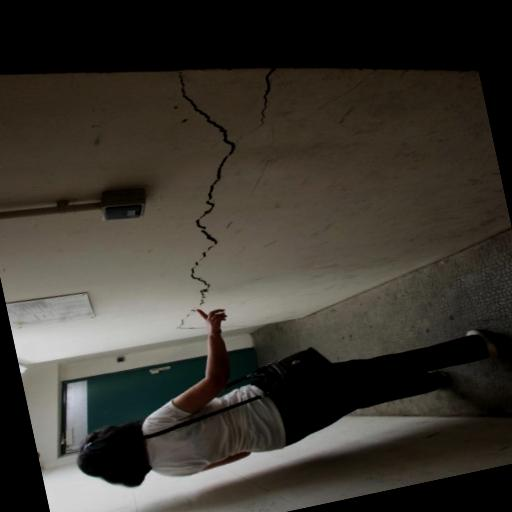spalling: (171, 76, 243, 300), (250, 74, 276, 122)
